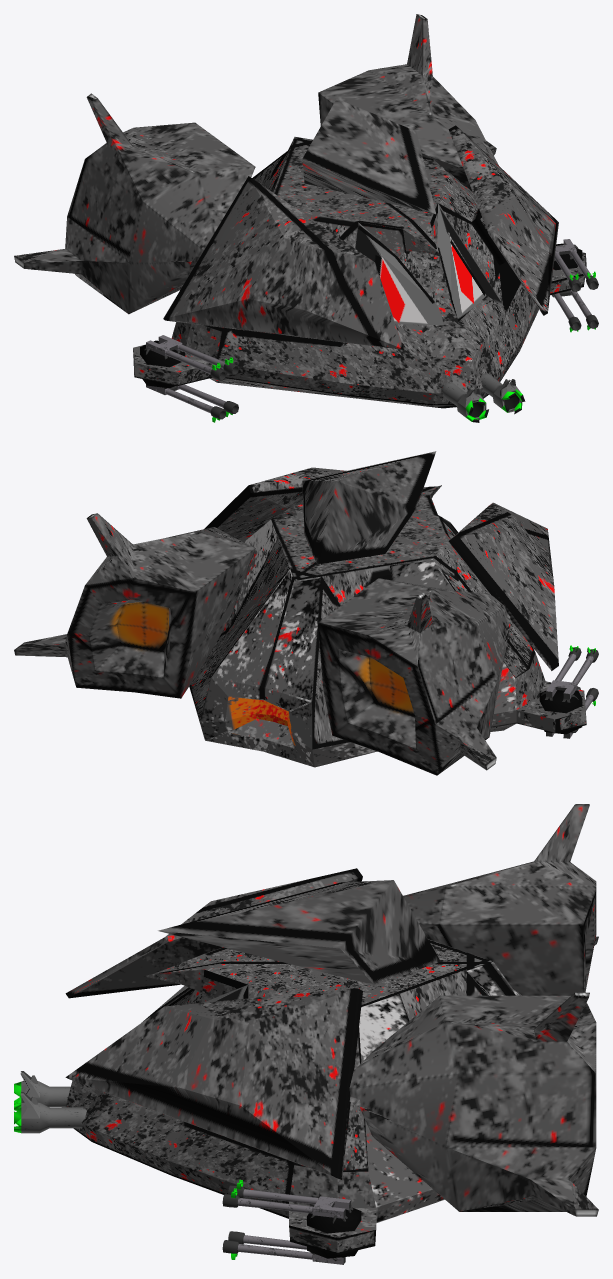
Rendered from BulletHellonepiece.fbx.
3 renders of one model, top to bottom at view 1: azimuth 30°, elevation 25°; view 2: azimuth 150°, elevation 25°; view 3: azimuth 270°, elevation 25°, orthographic. The views are drawn at different scales.
Parts seen in each view (by area): view 1: BHshipmainbody, BHrgtBooster, BHlftbooster, BHfrntcannon, polySurface19, polySurface23, polySurface18, polySurface22, polySurface21; view 2: BHshipmainbody, BHrgtBooster, BHlftbooster, polySurface19, polySurface21; view 3: BHshipmainbody, BHlftbooster, BHrgtBooster, BHfrntcannon, polySurface18, polySurface22, polySurface20.
Part boxes in pixels (bbox=[...]): BHshipmainbody: bbox=[133, 99, 586, 408]; BHrgtBooster: bbox=[14, 93, 255, 314]; BHlftbooster: bbox=[318, 14, 498, 191]; BHfrntcannon: bbox=[442, 373, 525, 422]; polySurface19: bbox=[144, 335, 238, 380]; polySurface23: bbox=[146, 384, 238, 422]; polySurface18: bbox=[554, 239, 598, 291]; polySurface22: bbox=[551, 290, 598, 332]; polySurface21: bbox=[140, 340, 185, 388]; BHshipmainbody: bbox=[189, 451, 586, 767]; BHrgtBooster: bbox=[318, 578, 510, 775]; BHlftbooster: bbox=[14, 513, 255, 698]; polySurface19: bbox=[541, 645, 598, 702]; polySurface21: bbox=[539, 689, 582, 734]; BHshipmainbody: bbox=[65, 868, 522, 1254]; BHlftbooster: bbox=[349, 992, 598, 1216]; BHrgtBooster: bbox=[403, 804, 598, 995]; BHfrntcannon: bbox=[14, 1071, 86, 1133]; polySurface18: bbox=[222, 1179, 353, 1223]; polySurface22: bbox=[222, 1231, 345, 1264]; polySurface20: bbox=[307, 1206, 361, 1258].
Bounding box in the file's own units: 1.9 × 0.8898 × 1.72.
